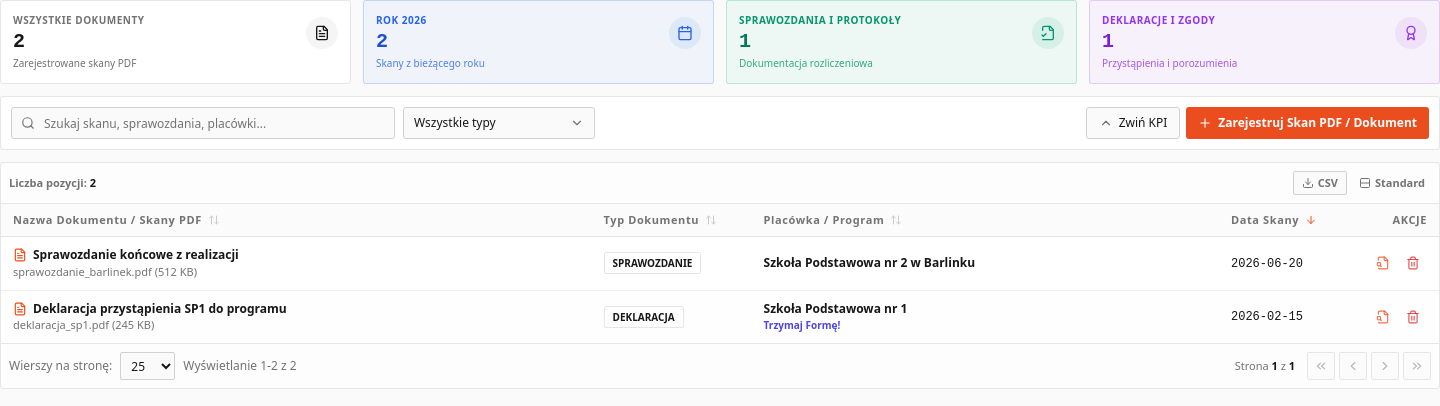
it: Scans Module Components › ScansSection › toggles KPI summary visibility
The image size is (1440, 406).
Expected: the text "Wszystkie Dokumenty" is shown, [13, 13, 144, 27]
Click the button "Zwiń KPI". click: [1133, 123]
box: [1086, 107, 1180, 139]
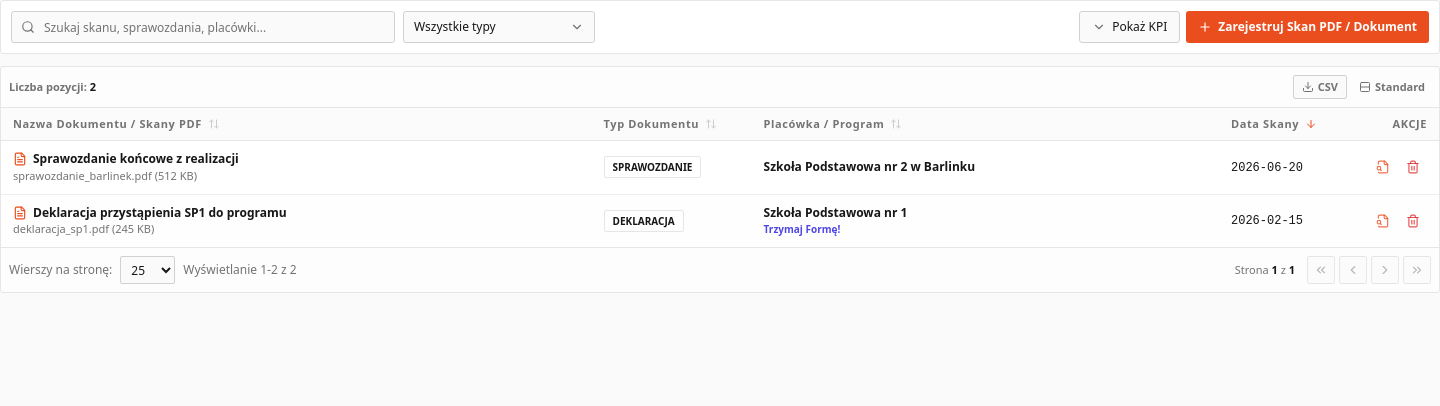
Result: the text "Wszystkie Dokumenty" is gone
